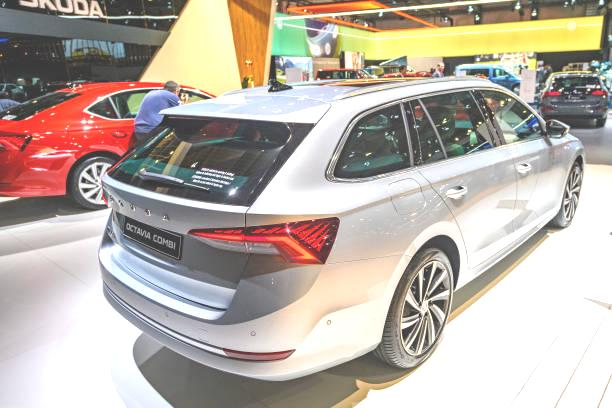skoda: (106, 192, 181, 228)
